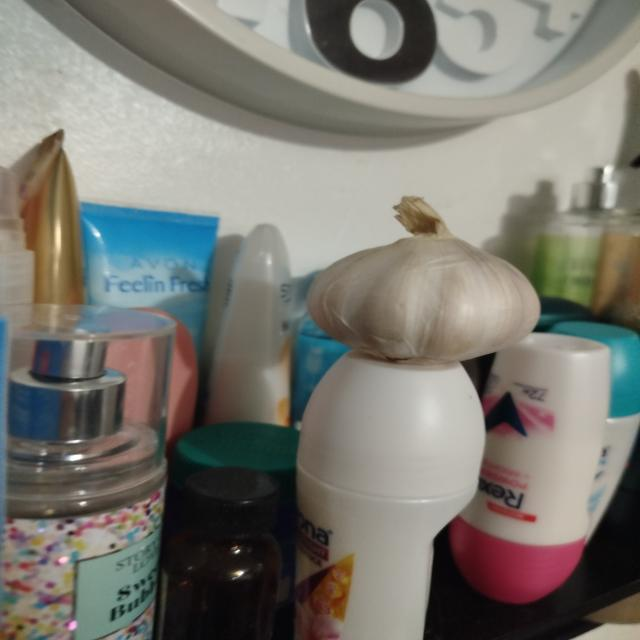garlic: (306, 194, 541, 364)
